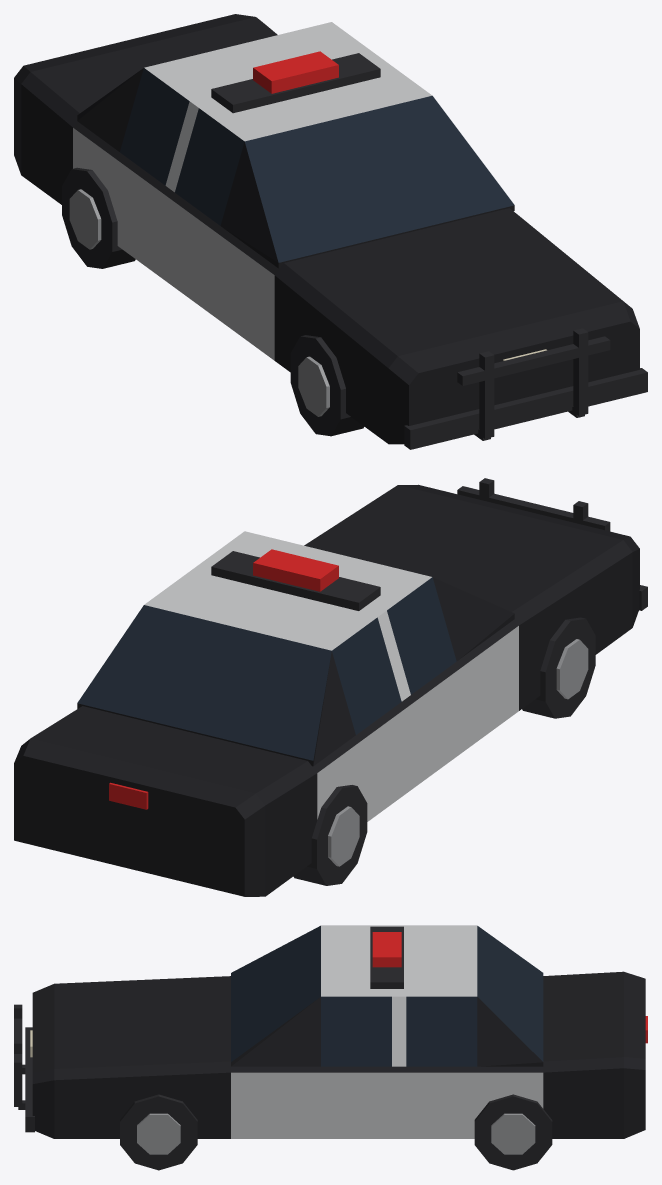
File: voiture_police.glb
3 renders of one model, top to bottom at view 1: azimuth 30°, elevation 25°; view 2: azimuth 150°, elevation 25°; view 3: azimuth 270°, elevation 25°, orthographic. The views are drawn at different scales.
Visible parts, largest first — view 1: voiture_police; view 2: voiture_police; view 3: voiture_police.
Boxes of the visible parts, <box> form: voiture_police: <box>14,14,647,449</box>; voiture_police: <box>14,478,647,896</box>; voiture_police: <box>14,925,647,1170</box>.
Size of the model in its own units: 1.95 by 1.63 by 5.28.
